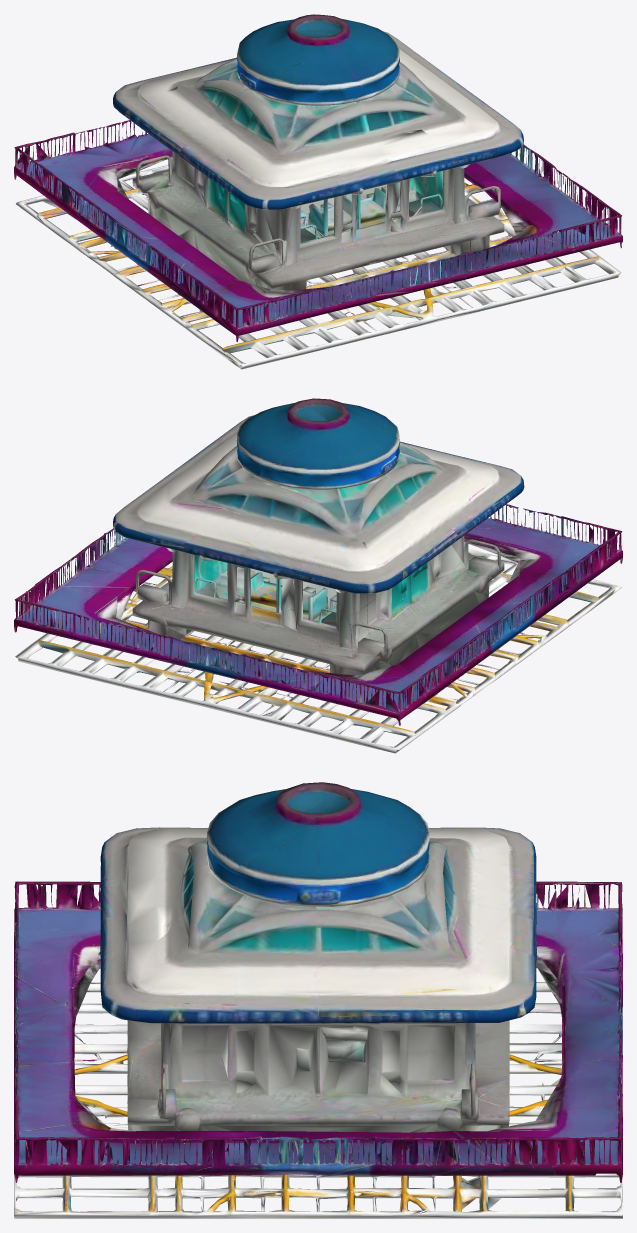
Rendered from station_mass.glb.
3 renders of one model, top to bottom at view 1: azimuth 30°, elevation 25°; view 2: azimuth 150°, elevation 25°; view 3: azimuth 270°, elevation 25°, orthographic. The views are drawn at different scales.
Visible parts, largest first — view 1: Mesh_0; view 2: Mesh_0; view 3: Mesh_0.
Part boxes in pixels (x1,y1,x2,y2): Mesh_0: (14, 14, 622, 369); Mesh_0: (14, 398, 622, 753); Mesh_0: (14, 782, 622, 1218).
Size of the model in its own units: 13.1 by 7 by 13.09.
Materials: 1 (1 with a texture image).
